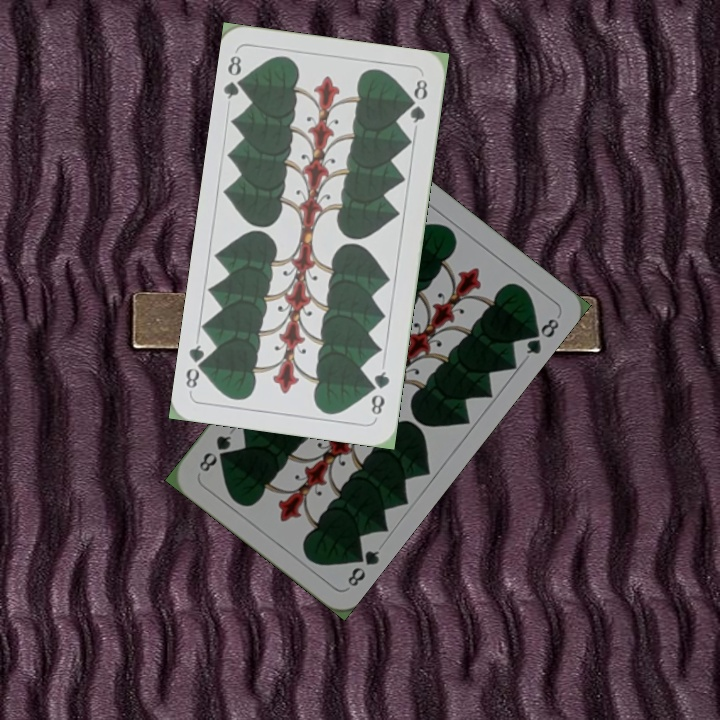G8: (343, 543, 383, 590), (220, 51, 250, 102), (366, 367, 392, 418)
